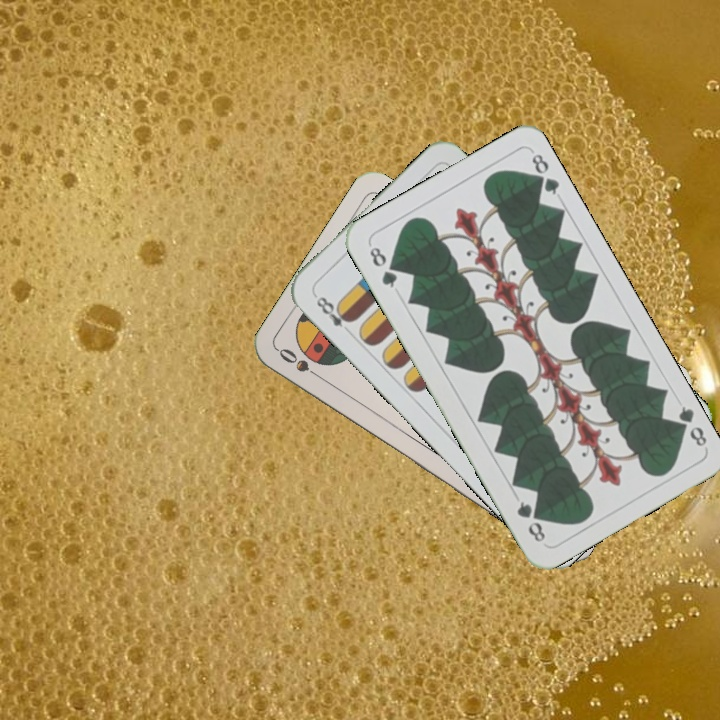E8: (310, 290, 356, 338)
G8: (669, 401, 710, 450), (365, 242, 400, 291)
SO: (274, 344, 327, 383)
